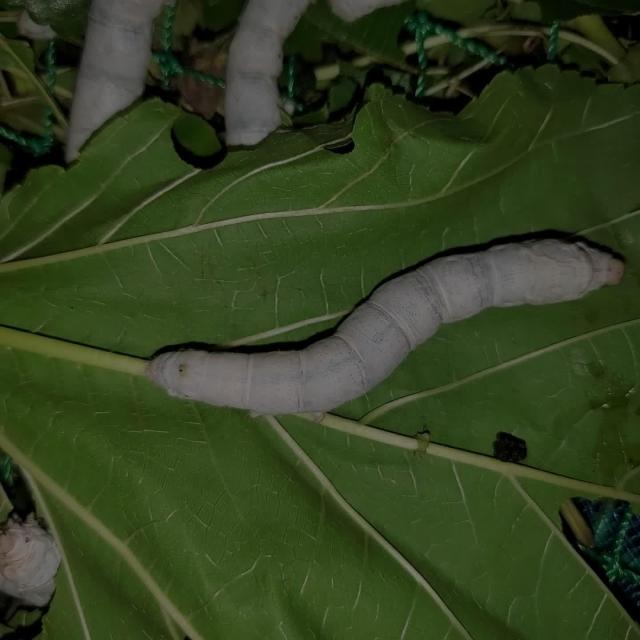Healthy: (114, 199, 640, 469)
